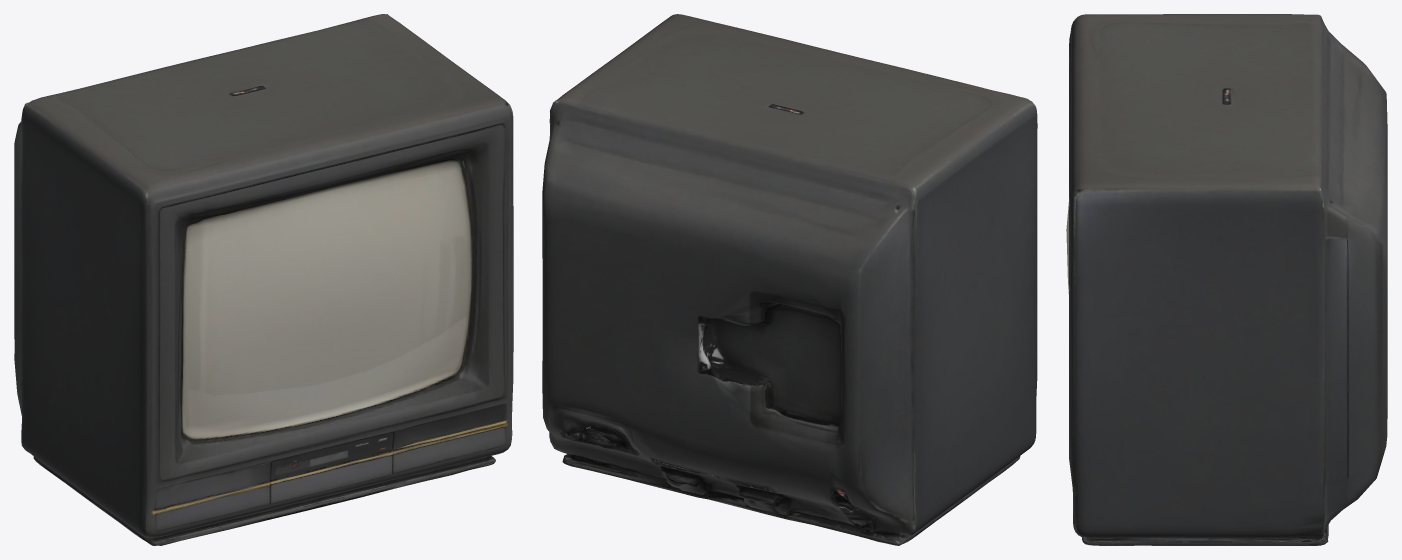
Rendered from Meshy_AI_CRT_Monitor_0228035658_texture.glb.
The picture shows the model from 3 angles, left to right: view 1: azimuth 30°, elevation 25°; view 2: azimuth 150°, elevation 25°; view 3: azimuth 270°, elevation 25°; orthographic projection.
Parts seen in each view (by area): view 1: Mesh0; view 2: Mesh0; view 3: Mesh0.
Part boxes in pixels (left/top/right/bottom): Mesh0: left=14, top=14, right=513, bottom=545; Mesh0: left=542, top=14, right=1037, bottom=545; Mesh0: left=1066, top=14, right=1387, bottom=545.
Size of the model in its own units: 1.06 by 1 by 0.8006.
Materials: 1 (1 with a texture image).
